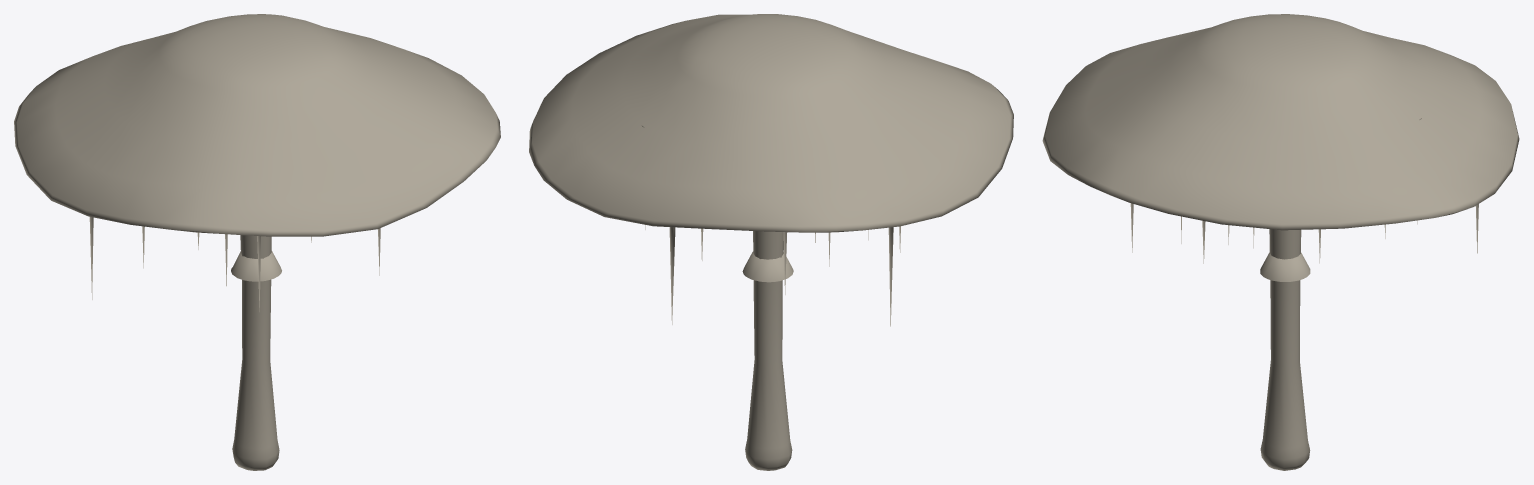
Rendered from shroomUmbrella.glb.
The picture shows the model from 3 angles, left to right: view 1: azimuth 30°, elevation 25°; view 2: azimuth 150°, elevation 25°; view 3: azimuth 270°, elevation 25°; orthographic projection.
Parts seen in each view (by area): view 1: shroomUmbrella; view 2: shroomUmbrella; view 3: shroomUmbrella.
Boxes of the visible parts, bbox=[...] form: shroomUmbrella: bbox=[14, 14, 500, 470]; shroomUmbrella: bbox=[529, 14, 1013, 470]; shroomUmbrella: bbox=[1042, 14, 1519, 470].
Size of the model in its own units: 0.6602 by 0.65 by 0.6597.
